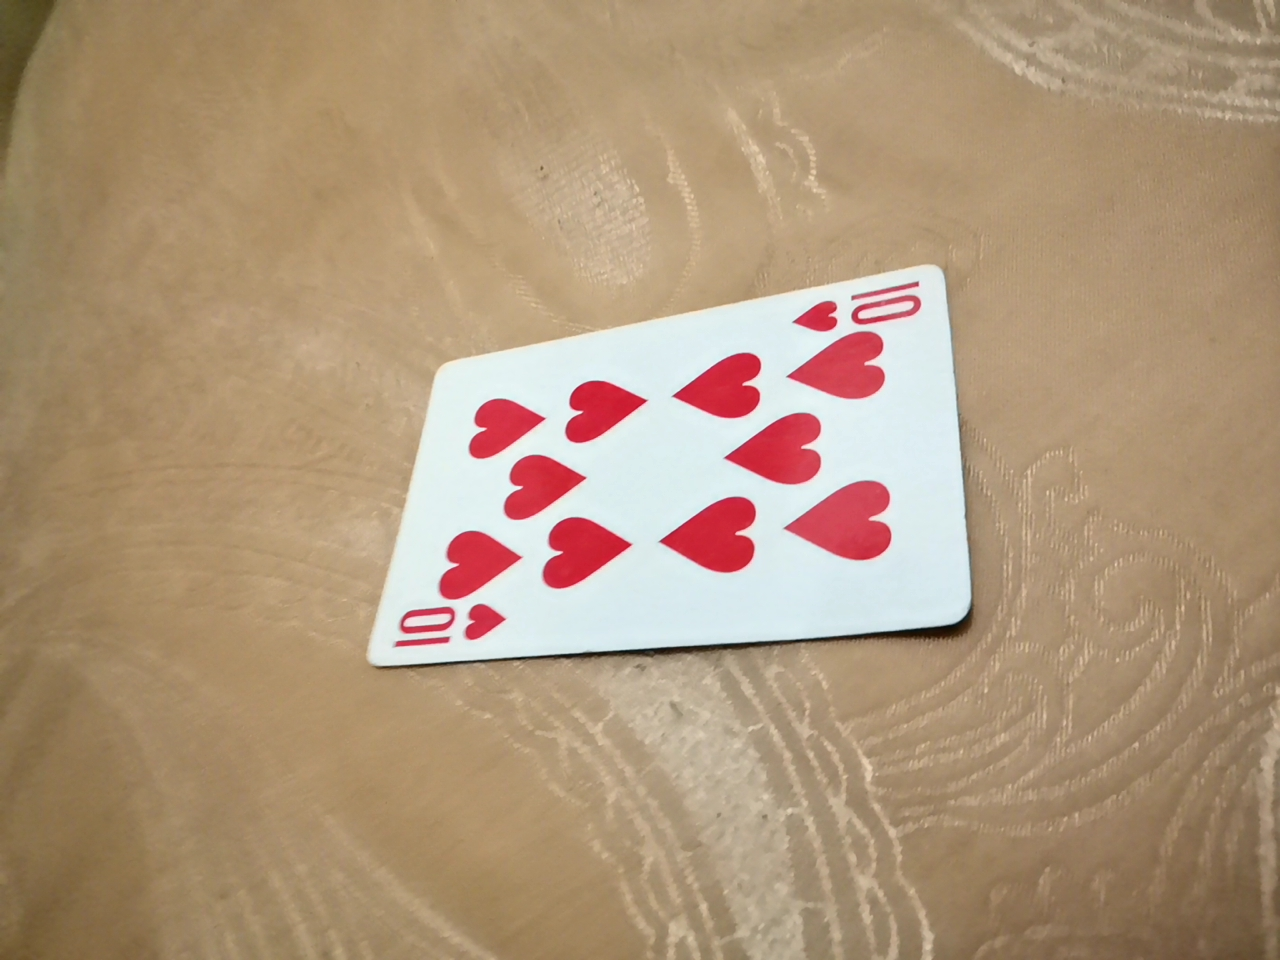hx 10: (360, 311, 1002, 681)
